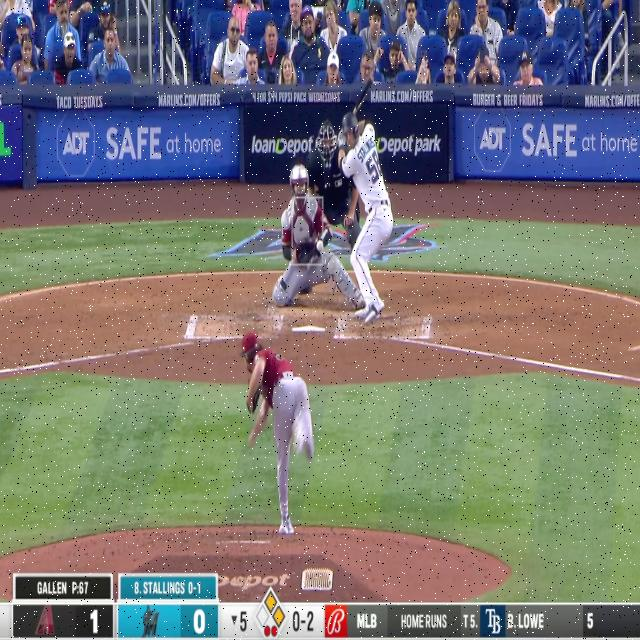baseball: (316, 239, 324, 254)
